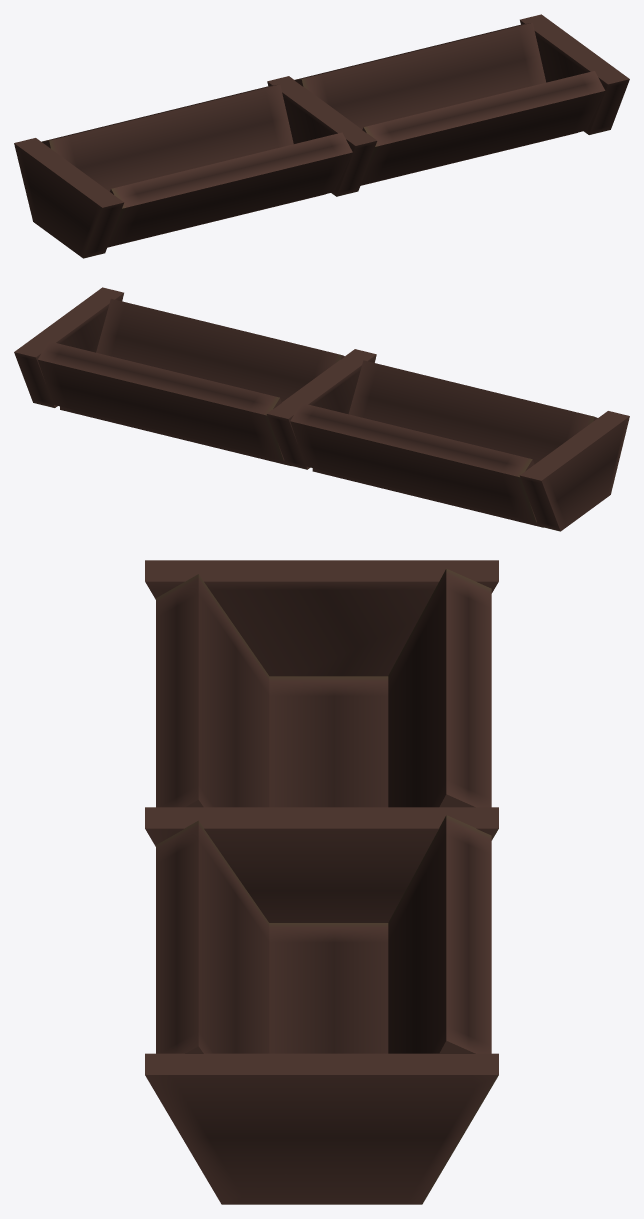
The model's file is water_bowl_v042.fbx.
The picture shows the model from 3 angles, top to bottom: view 1: azimuth 30°, elevation 25°; view 2: azimuth 150°, elevation 25°; view 3: azimuth 270°, elevation 25°; orthographic projection. The views are drawn at different scales.
Parts seen in each view (by area): view 1: water_bowl_v042; view 2: water_bowl_v042; view 3: water_bowl_v042.
Boxes of the visible parts, x1,y1,x2,y2 form: water_bowl_v042: [14, 14, 629, 258]; water_bowl_v042: [14, 287, 629, 531]; water_bowl_v042: [145, 560, 498, 1204].
Size of the model in its own units: 505 by 70.19 by 147.
